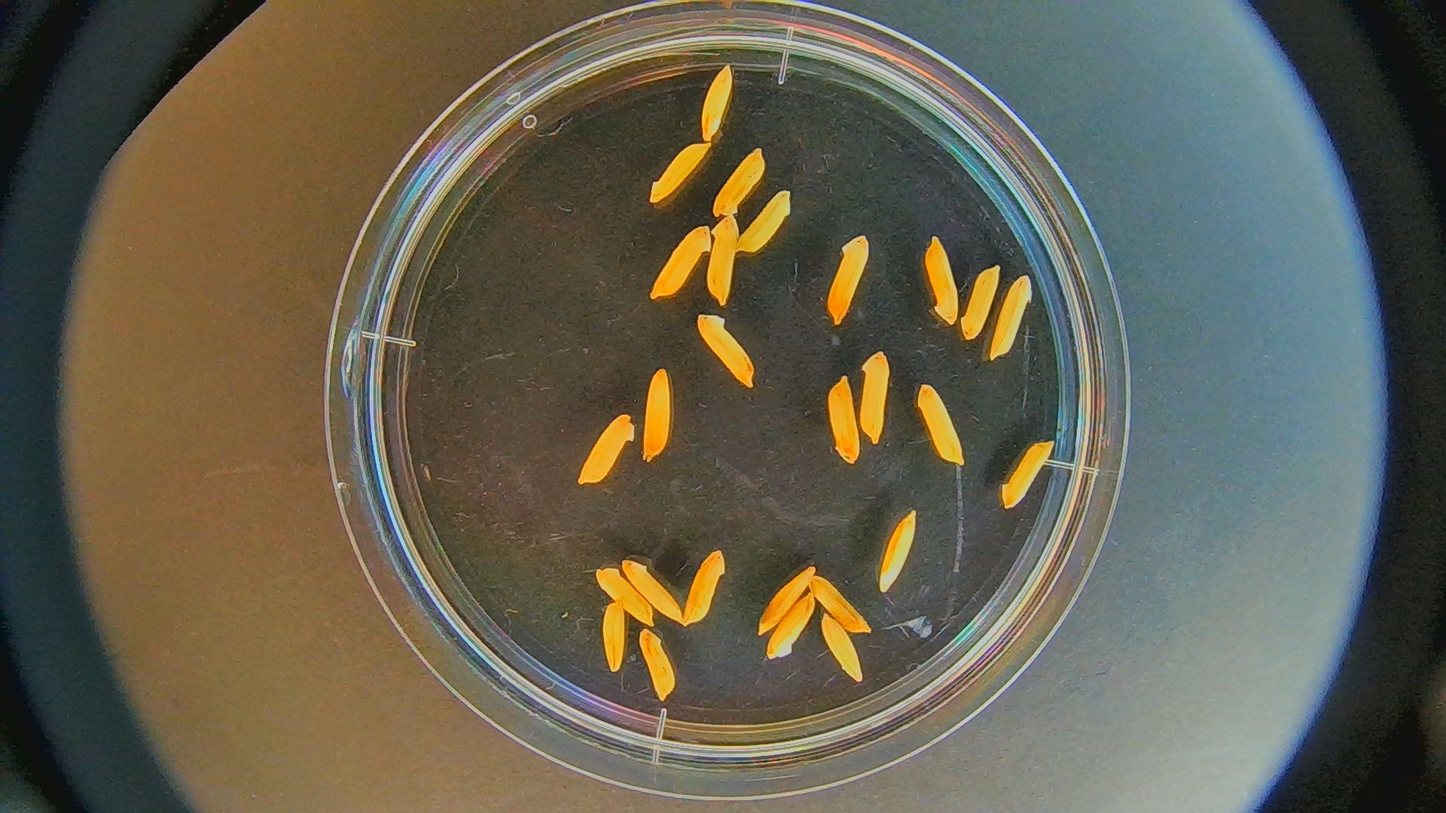no: (986, 262, 1042, 368), (911, 380, 969, 480), (996, 433, 1057, 515), (648, 137, 714, 212), (816, 611, 877, 692), (650, 222, 710, 303), (756, 562, 818, 639), (697, 312, 760, 387), (572, 411, 635, 486), (821, 230, 867, 332), (918, 231, 964, 327), (743, 182, 794, 267), (763, 589, 822, 662), (622, 553, 683, 623), (713, 136, 765, 217), (593, 561, 655, 628), (682, 548, 730, 632), (810, 567, 870, 634), (636, 626, 684, 706), (859, 346, 897, 446), (960, 257, 1002, 344), (822, 375, 862, 466), (705, 215, 744, 308), (642, 367, 679, 459), (878, 509, 918, 594), (703, 61, 740, 142), (599, 598, 631, 671)
